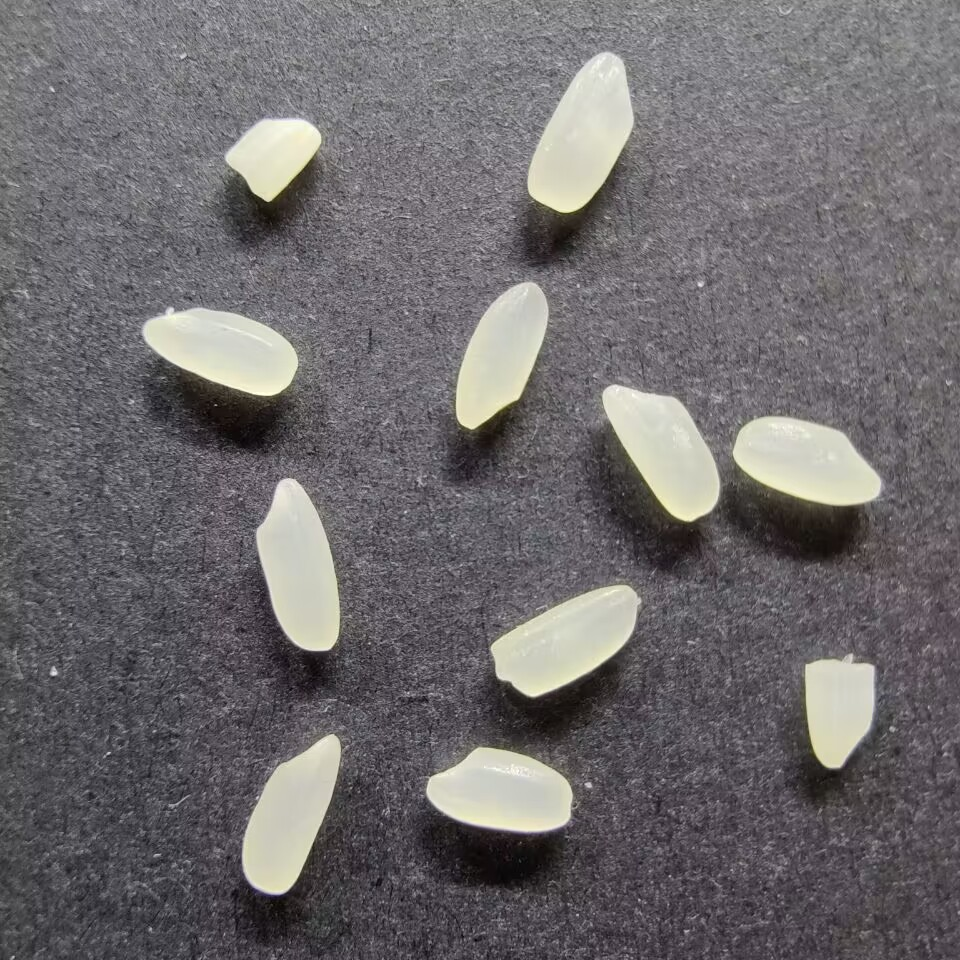broken: (221, 116, 322, 203), (800, 657, 877, 770)
rice: (524, 51, 636, 214), (488, 582, 640, 699), (600, 380, 723, 523), (238, 733, 342, 896), (256, 474, 344, 653), (455, 280, 553, 432), (140, 305, 299, 398), (730, 414, 885, 507), (423, 746, 576, 834)
